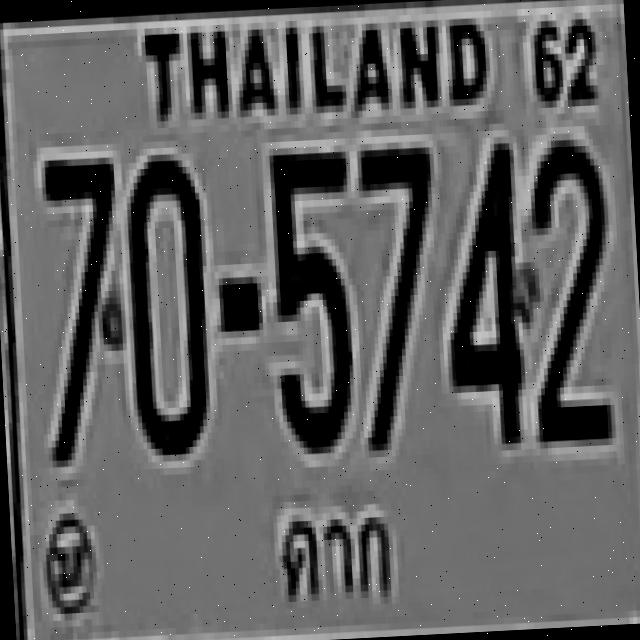0: (120, 150, 208, 453)
2: (522, 132, 614, 442)
4: (436, 136, 524, 440)
5: (266, 145, 358, 449)
7: (37, 151, 125, 461), (352, 141, 440, 444)
Tak: (272, 488, 394, 608)
